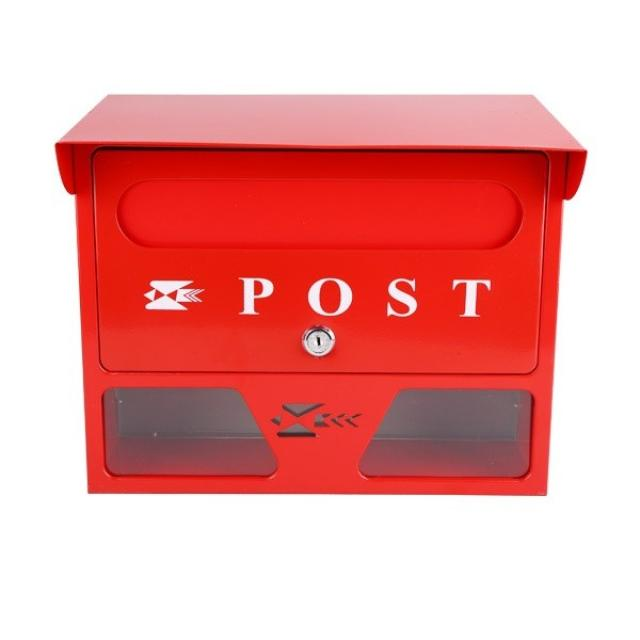Post Box: (49, 84, 589, 498)
